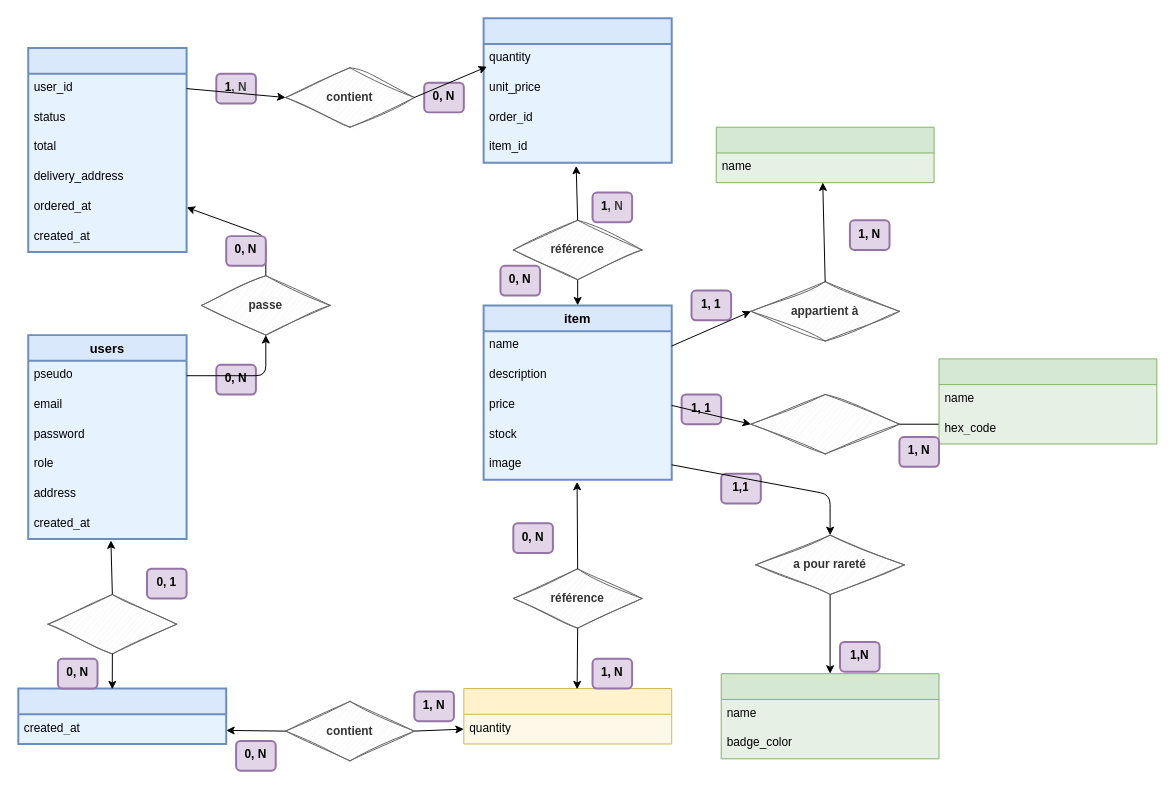
Some shapes in this 1174 by 790 pixel diagram are drawn without their labels. Each missing label, with the box of its shape:
a pour couleur: (750, 394, 899, 454)
cart_items: (463, 688, 672, 744)
carts: (17, 687, 227, 744)
category: (715, 126, 934, 183)
colors: (938, 358, 1157, 444)
order_items: (482, 17, 672, 163)
orders: (27, 47, 187, 252)
possède: (47, 594, 177, 654)
rarities: (720, 673, 939, 759)
